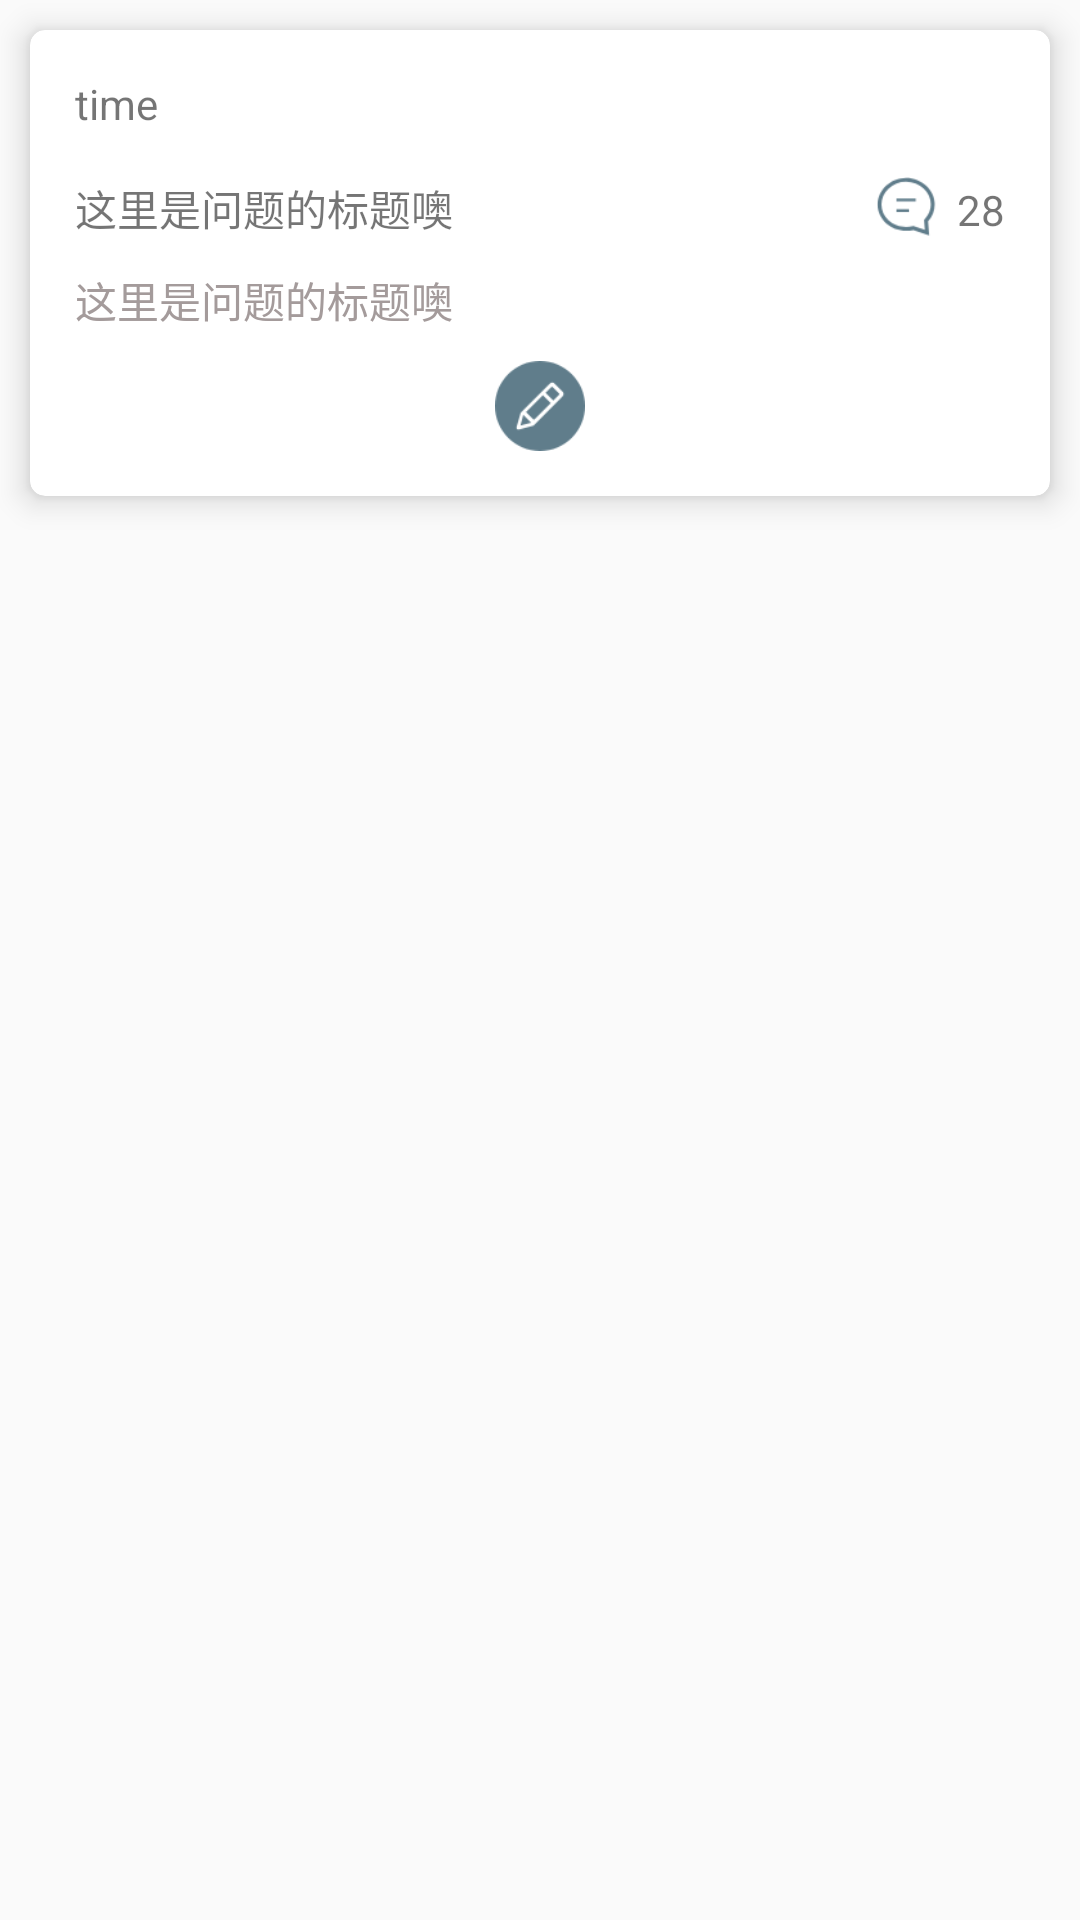

Named icons in this screenshot (1080px x 1920px) and their bounding boxes, (x1, y1, x2, y2):
comment: (877, 177, 935, 236)
